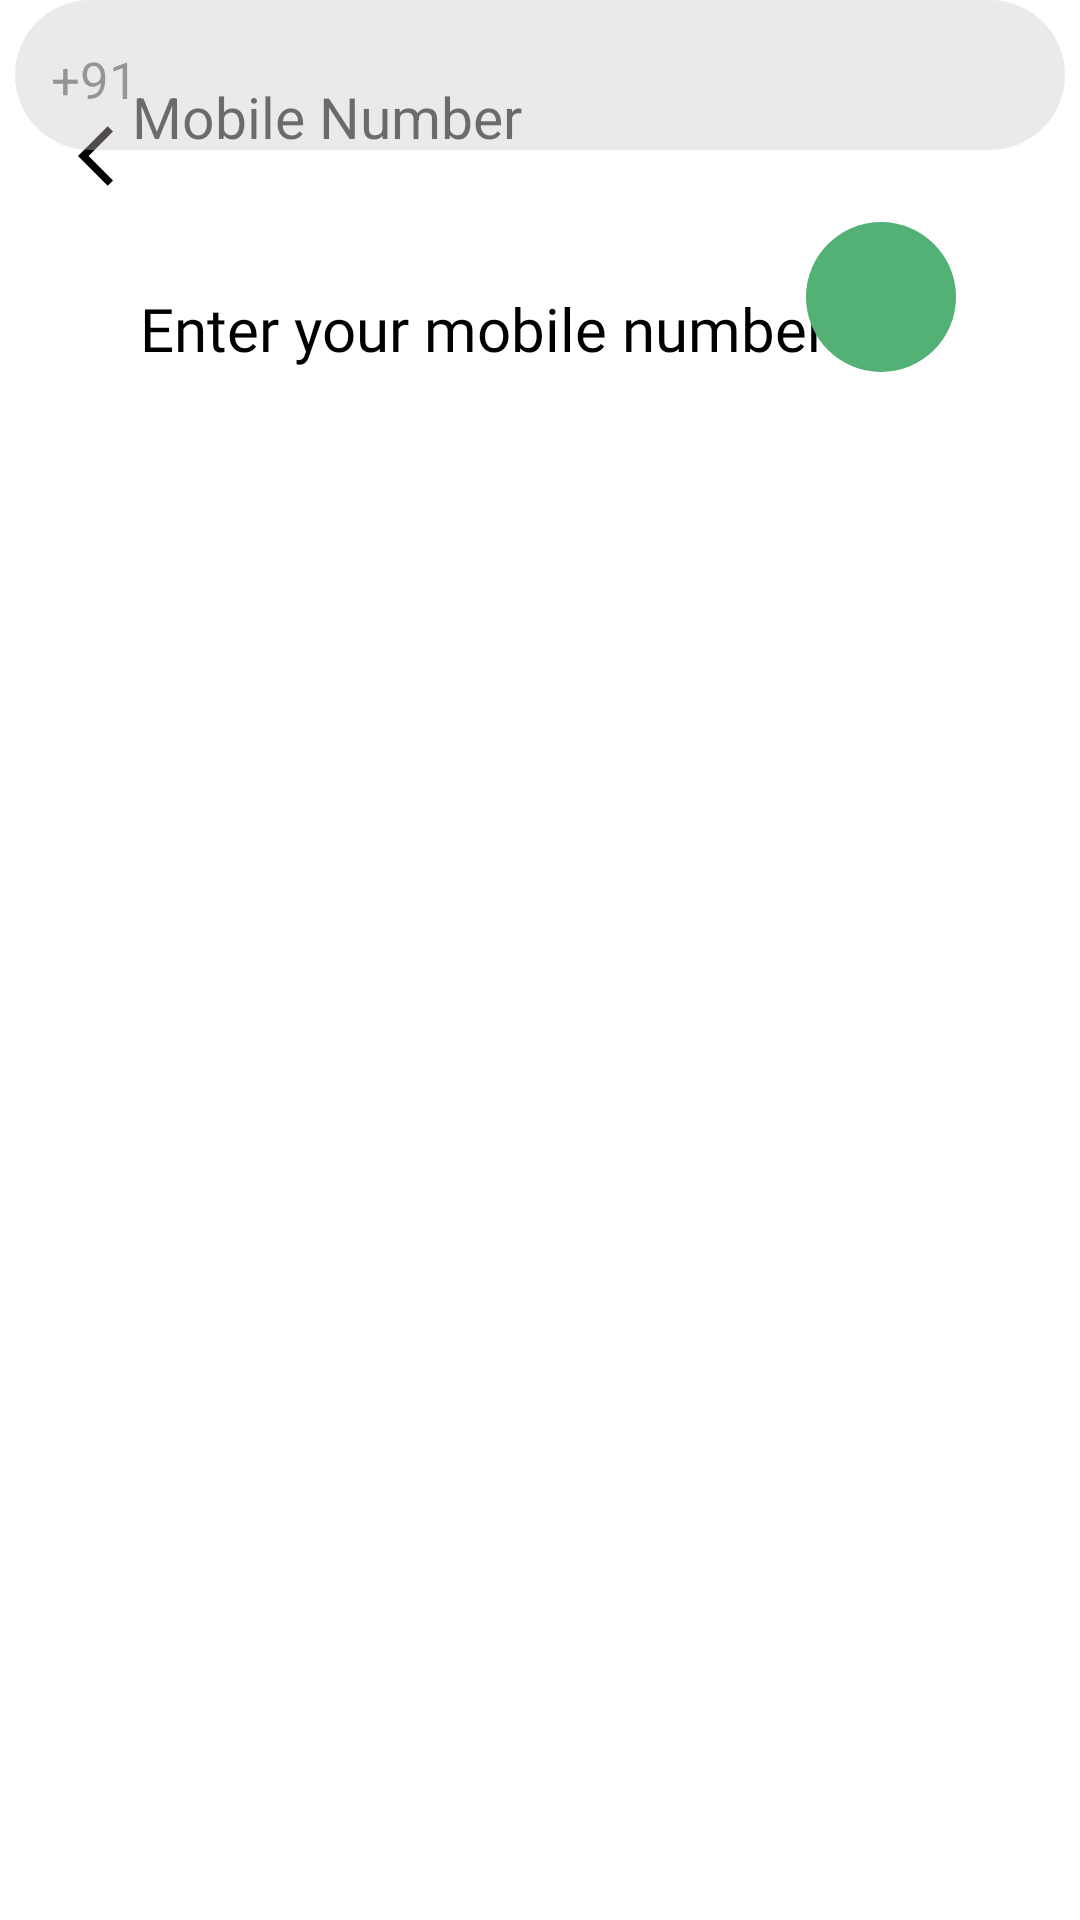

Point at icon controls on the screen. Image size 1080w x 1920h, points as (x,y).
arrow back: (95,156)
